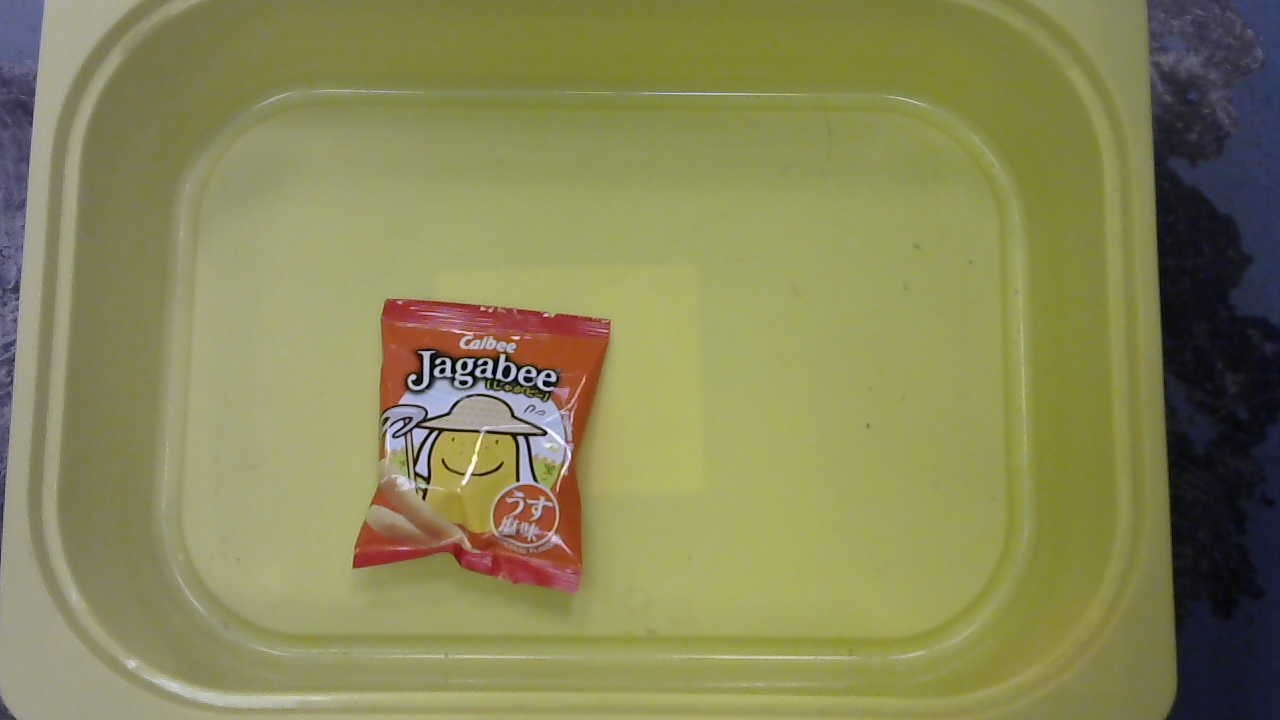JagabeeFarmer: (343, 292, 617, 602)
